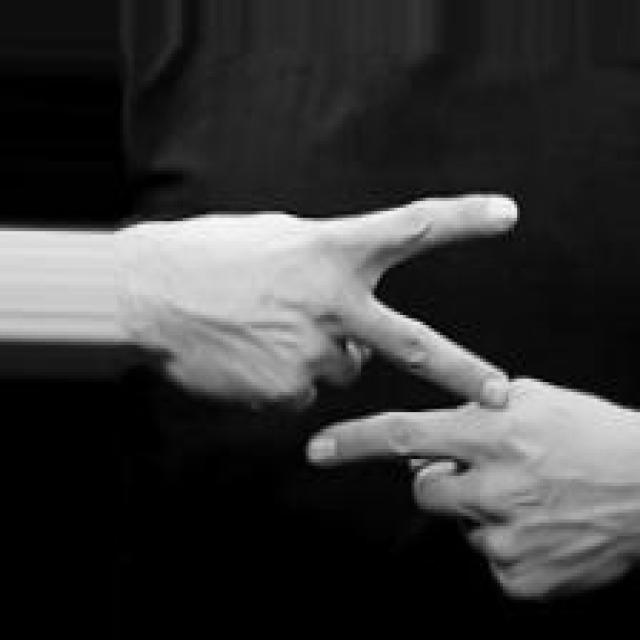Z: (161, 190, 640, 600)
